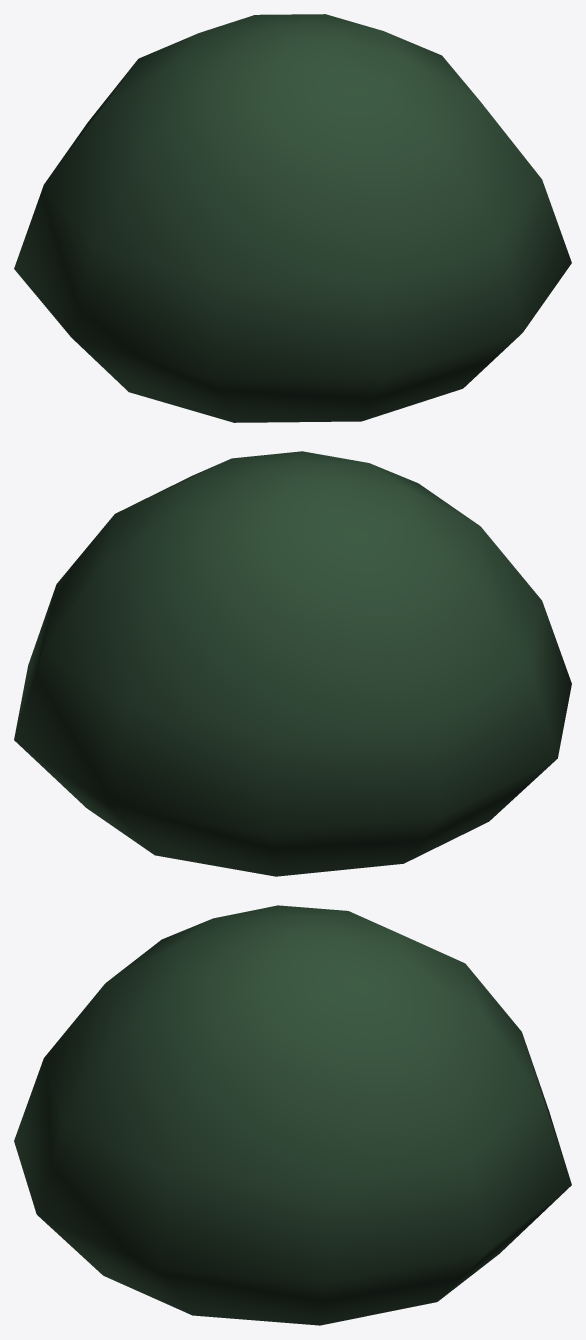
Rendered from plants-bushes-twigs-round-bush_v3.fbx.
3 views of the same model, one above another, from view 1: azimuth 30°, elevation 25°; view 2: azimuth 150°, elevation 25°; view 3: azimuth 270°, elevation 25° (orthographic). The views are drawn at different scales.
Parts seen in each view (by area): view 1: Round Bush_v3; view 2: Round Bush_v3; view 3: Round Bush_v3.
Boxes of the visible parts, box(x1,y1,x2,y2) form: Round Bush_v3: box(14, 14, 571, 422); Round Bush_v3: box(14, 451, 571, 876); Round Bush_v3: box(14, 905, 571, 1325).
Size of the model in its own units: 1 by 0.6587 by 0.9913.
